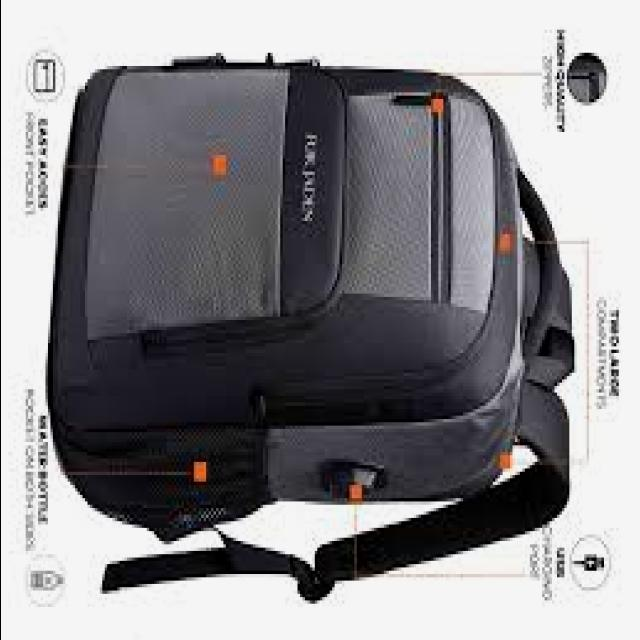backpack: (48, 54, 577, 602)
